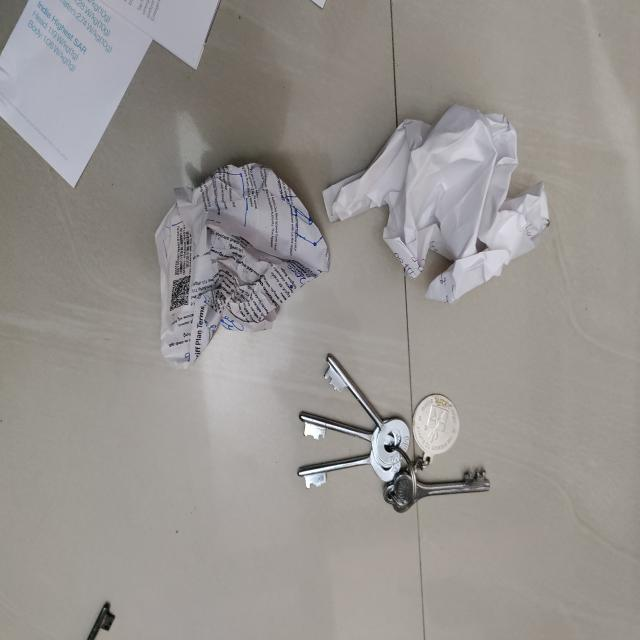metal: (295, 354, 496, 513), (81, 598, 120, 640)
paper: (325, 103, 553, 301), (0, 0, 217, 183), (156, 164, 329, 366)
